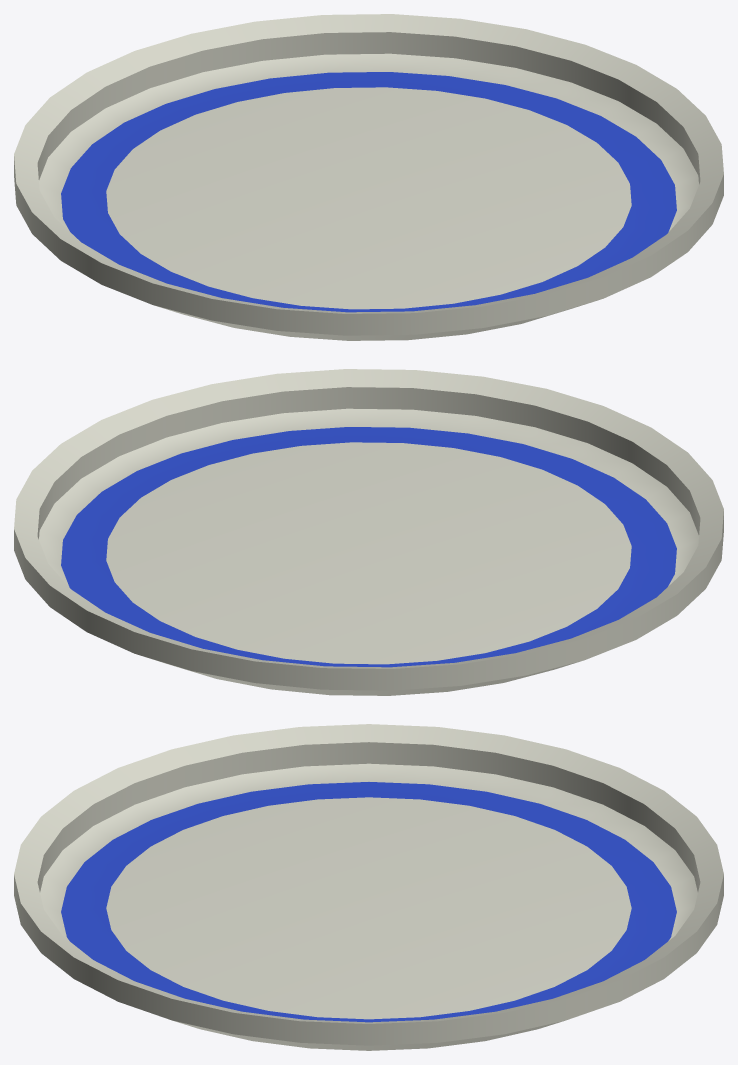
Rendered from plate-whole.fbx.
3 renders of one model, top to bottom at view 1: azimuth 30°, elevation 25°; view 2: azimuth 150°, elevation 25°; view 3: azimuth 270°, elevation 25°, orthographic.
Parts seen in each view (by area): view 1: Cylinder; view 2: Cylinder; view 3: Cylinder.
Boxes of the visible parts, x1=… form: Cylinder: x1=14, y1=14, x2=723, y2=340; Cylinder: x1=14, y1=369, x2=723, y2=695; Cylinder: x1=14, y1=724, x2=723, y2=1050.
Size of the model in its own units: 200 by 14.99 by 200.
